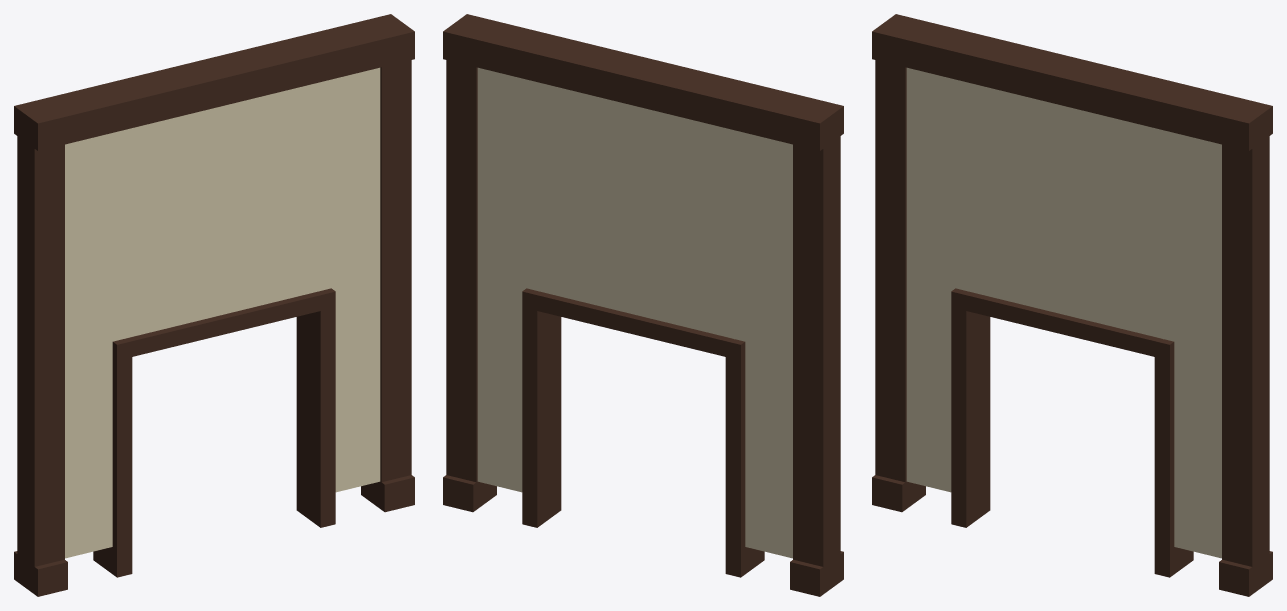
The model's file is 807_stable_lower_door_socket_wall.fbx.
3 views of the same model, side by side, from view 1: azimuth 30°, elevation 25°; view 2: azimuth 150°, elevation 25°; view 3: azimuth 330°, elevation 25° (orthographic).
Visible parts, largest first — view 1: 807_stable_lower_door_socket_wall; view 2: 807_stable_lower_door_socket_wall; view 3: 807_stable_lower_door_socket_wall.
Part boxes in pixels (left/top/right/bottom): 807_stable_lower_door_socket_wall: left=14, top=14, right=414, bottom=596; 807_stable_lower_door_socket_wall: left=443, top=14, right=843, bottom=596; 807_stable_lower_door_socket_wall: left=872, top=14, right=1272, bottom=596.
Size of the model in its own units: 2 by 2.4 by 0.22.
Materials: 1 (1 with a texture image).
